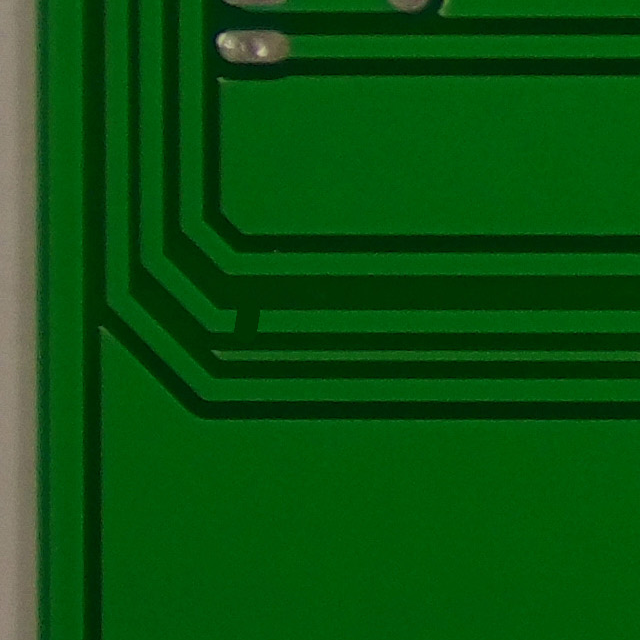open_circuit: (217, 294, 270, 347)
